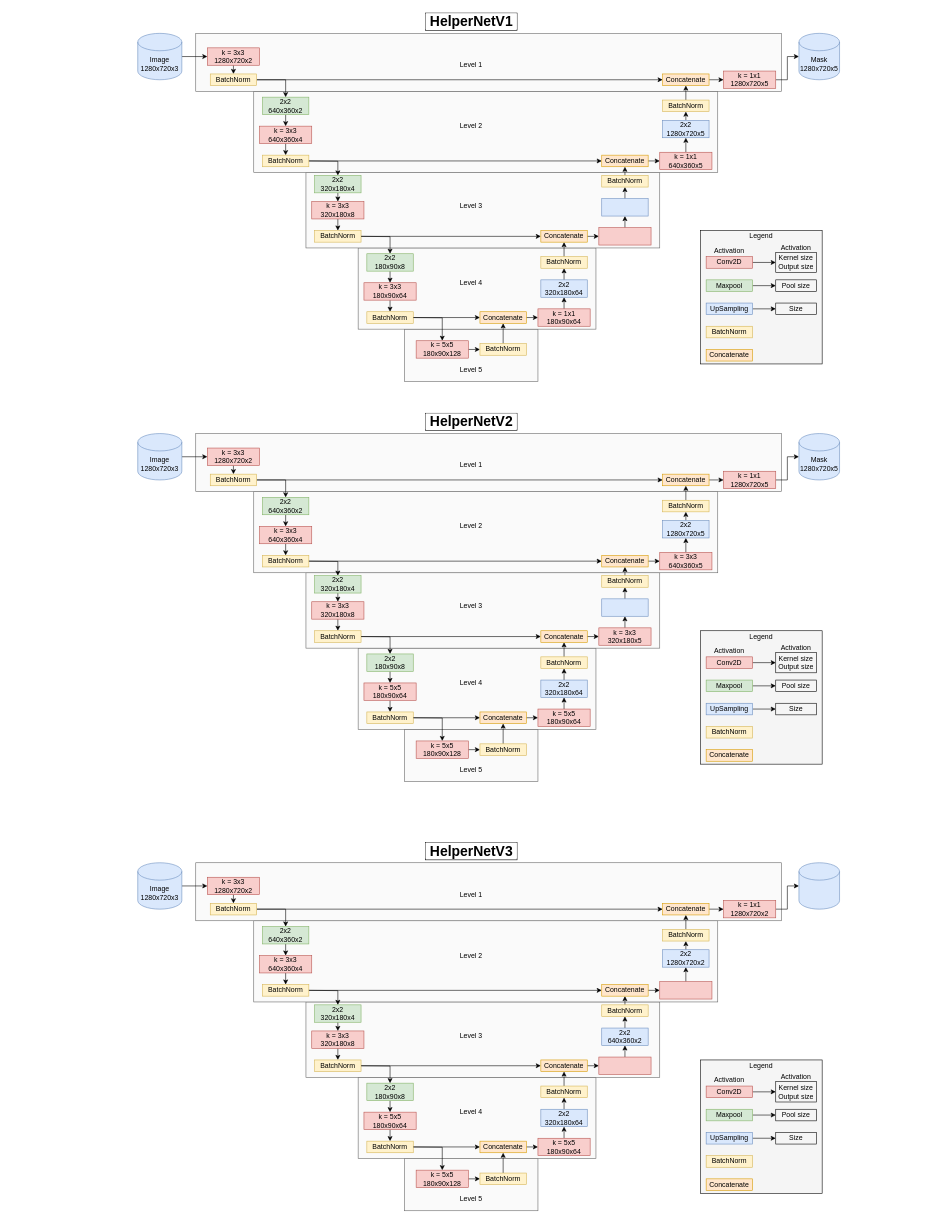
This 942x1221 diagram has some shape labels left out. The shapes that lost their labels are listed below. From the top down, each one's box as (x1, y1, x2, y2) in pixels, then its label:
(601, 198, 648, 216): 2x2 640x360x5
(598, 227, 651, 245): k = 1x1 320x180x5
(601, 598, 648, 616): 2x2 640x360x8
(798, 862, 840, 909): Mask 1280x720x2
(659, 981, 712, 999): k = 3x3 640x360x2
(598, 1056, 651, 1074): k = 3x3 320x180x2
